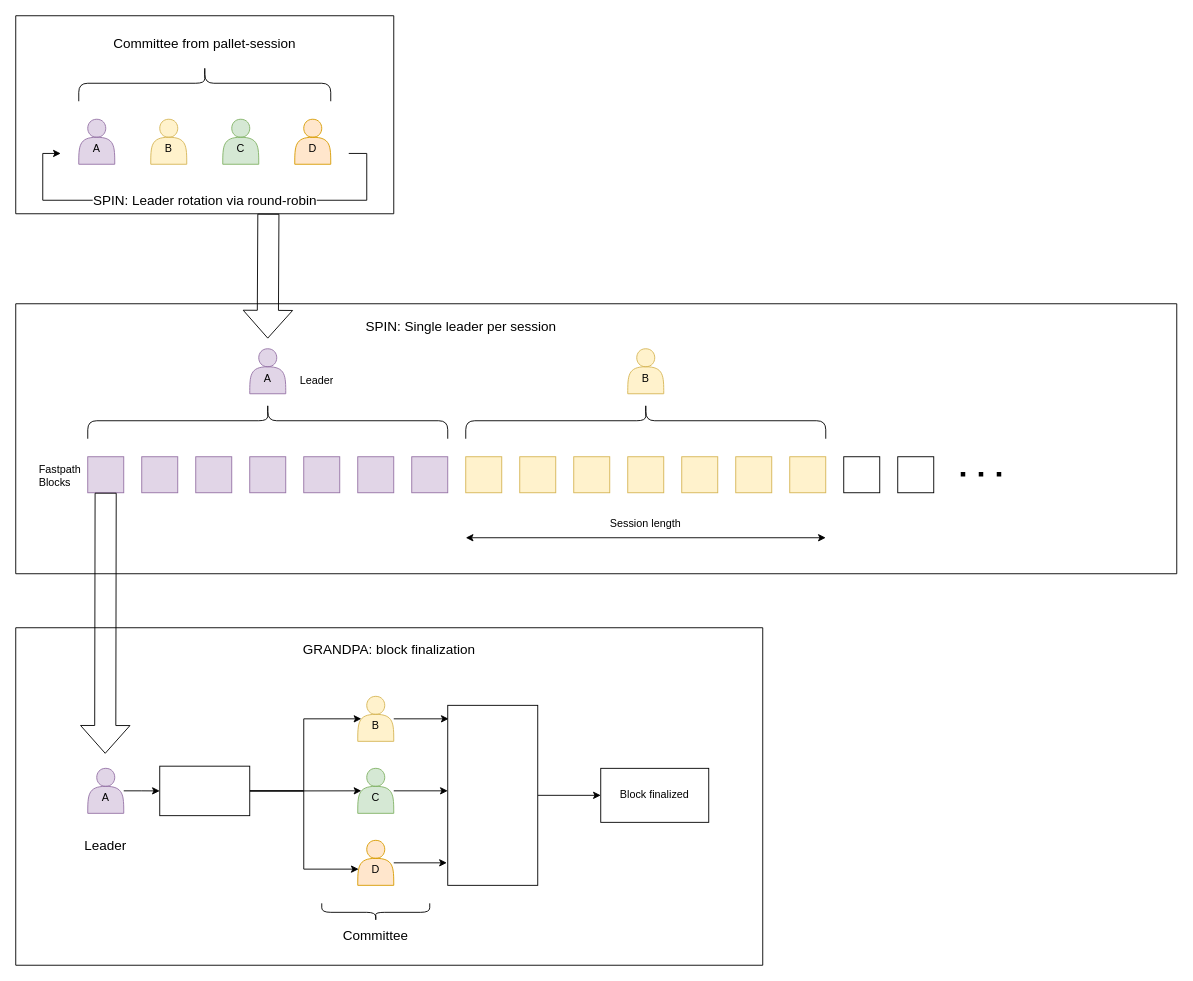
The diagram is 1193 pixels wide and 981 high, and some of its shapes have lost their labels. Here are the shapes that lost their labels. From the top down, the box of each, then its label:
(159, 765, 250, 816): Produce block
(447, 704, 538, 885): Vote on block
